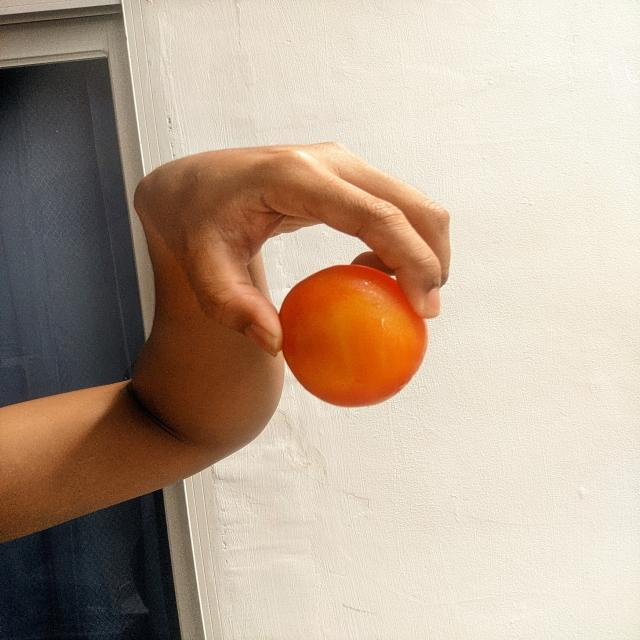Fresh Tomato: (238, 253, 448, 420)
